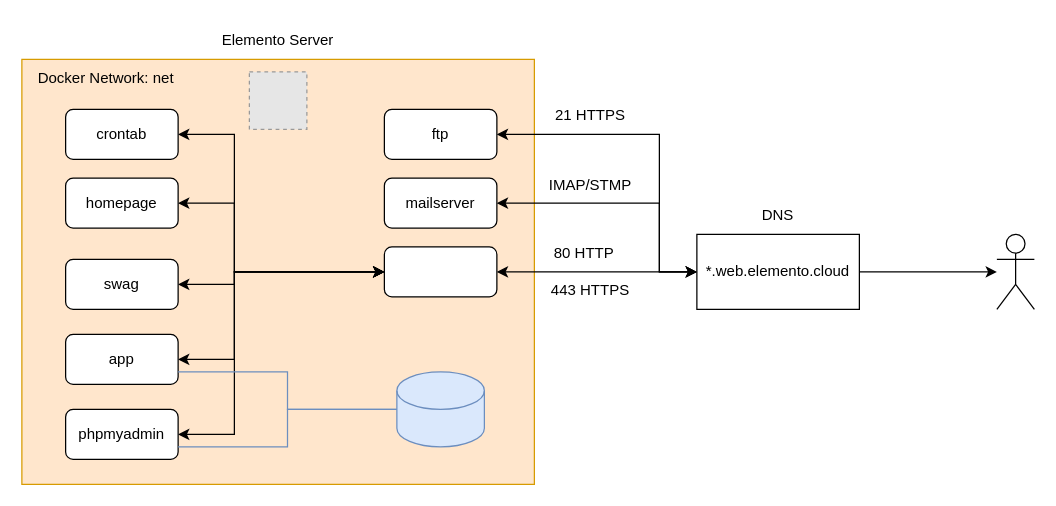
This 1056x506 diagram has some shape labels left out. Grey dashed boxes stand in for pictures. The shapes that lost their labels are listed below. From the top down, each one's centre as x and y in pixels, then its label:
At [440,271]: "Traefik".
At [1015,271]: "Client".
At [440,409]: "mysql_db".
